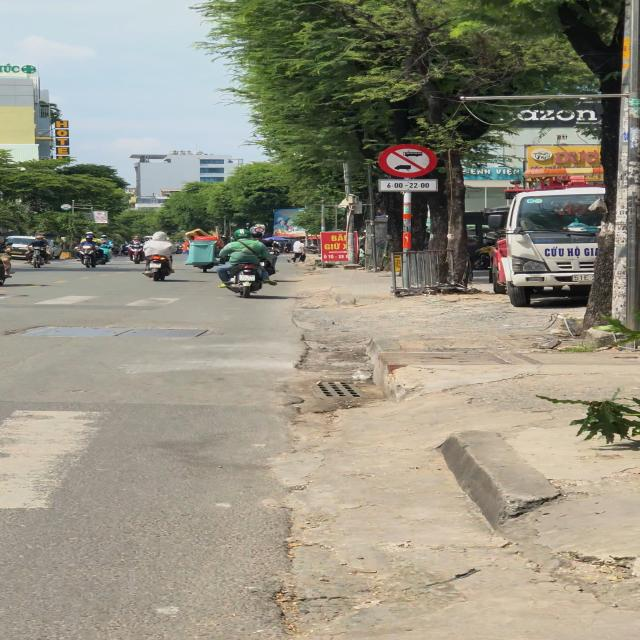Bien bao cam xe oto khach va xe oto tai: (378, 142, 442, 180)
